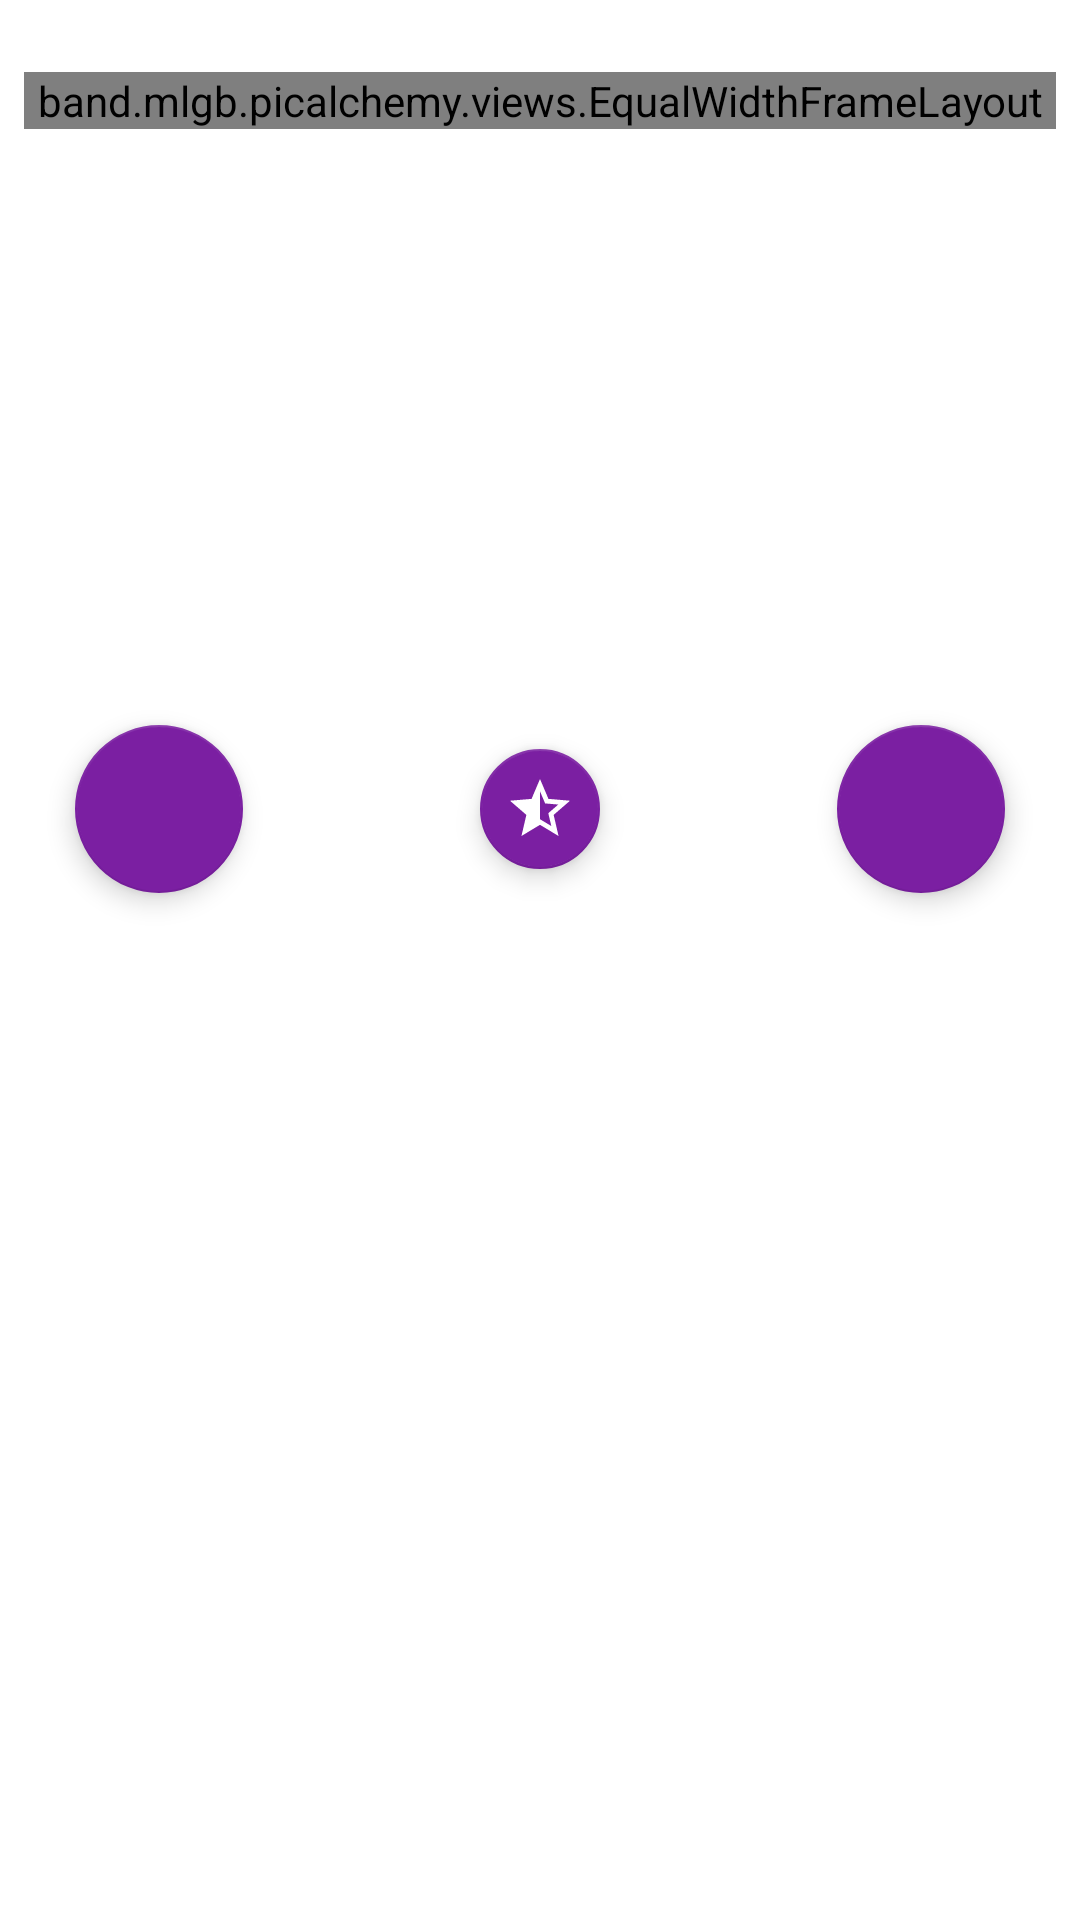

Locate icon controls on the screen. Image size 1080 × 1920, boxes as BBox(x1, y1, x2, y2).
star half: BBox(480, 749, 600, 873)
